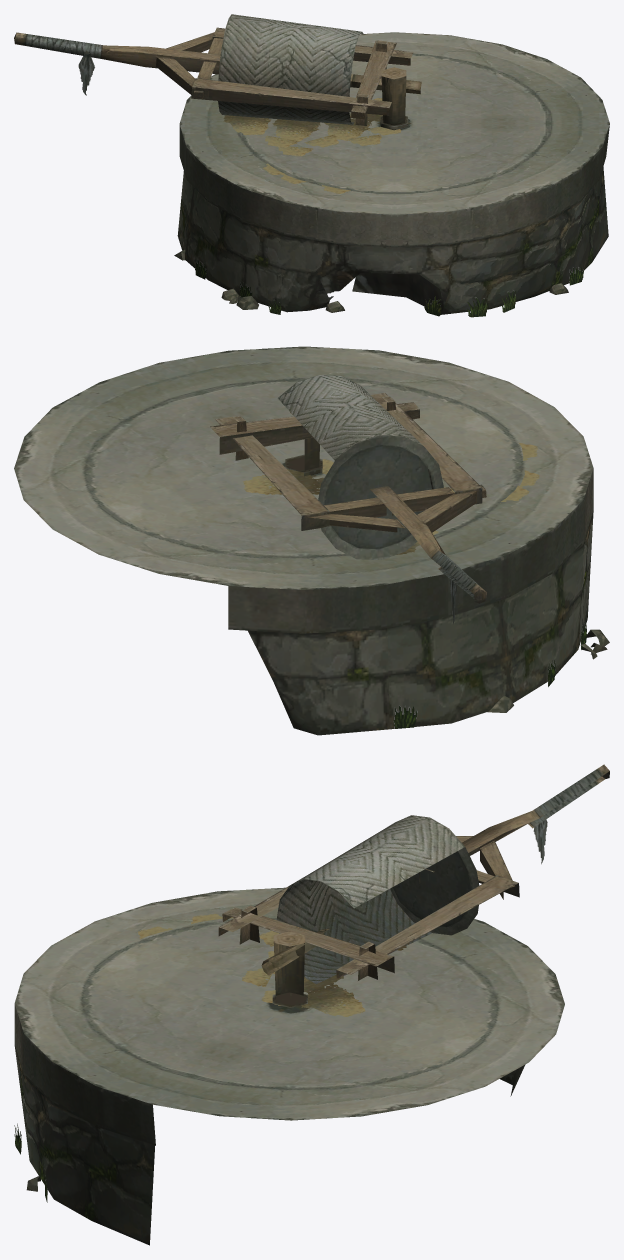
File: JJS_QY_ShiNian.FBX
The picture shows the model from 3 angles, top to bottom: view 1: azimuth 30°, elevation 25°; view 2: azimuth 150°, elevation 25°; view 3: azimuth 270°, elevation 25°; orthographic projection. The views are drawn at different scales.
Visible parts, largest first — view 1: JJS_QY_ShiNian; view 2: JJS_QY_ShiNian; view 3: JJS_QY_ShiNian.
Boxes of the visible parts, box(x1,y1,x2,y2) form: JJS_QY_ShiNian: box(14, 14, 609, 317); JJS_QY_ShiNian: box(14, 346, 609, 735); JJS_QY_ShiNian: box(14, 764, 609, 1245).
Bounding box in the file's own units: 265 × 118 × 241.
